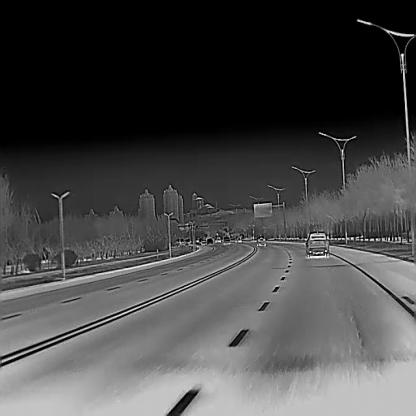car: (304, 230, 329, 256), (256, 235, 266, 245), (233, 235, 242, 242), (206, 237, 213, 245), (223, 236, 229, 244), (214, 237, 220, 242)
